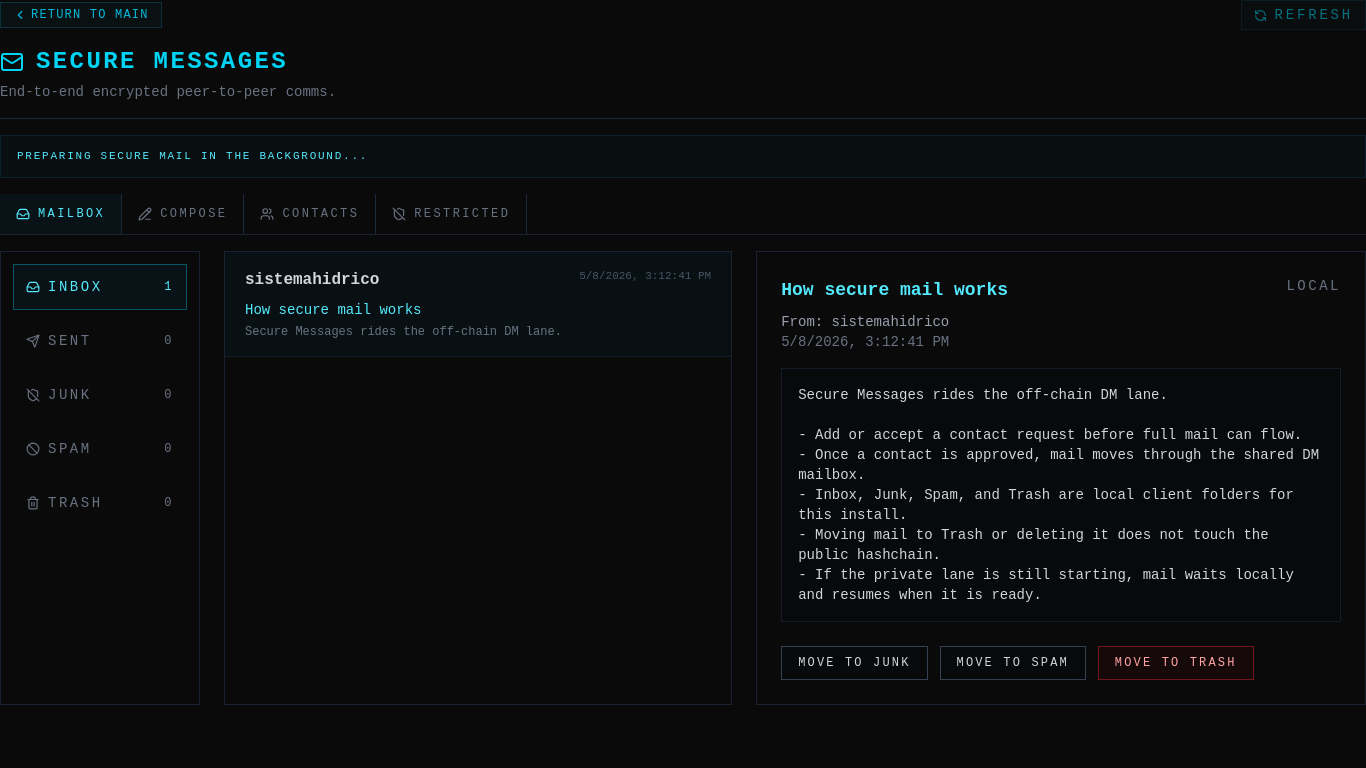
Test: MessagesView first-contact trust UX › blocks ambient legacy lookup for verified contacts that still lack an invite handle
Click the button "COMPOSE" at (183, 214), box [122,194,244,234]
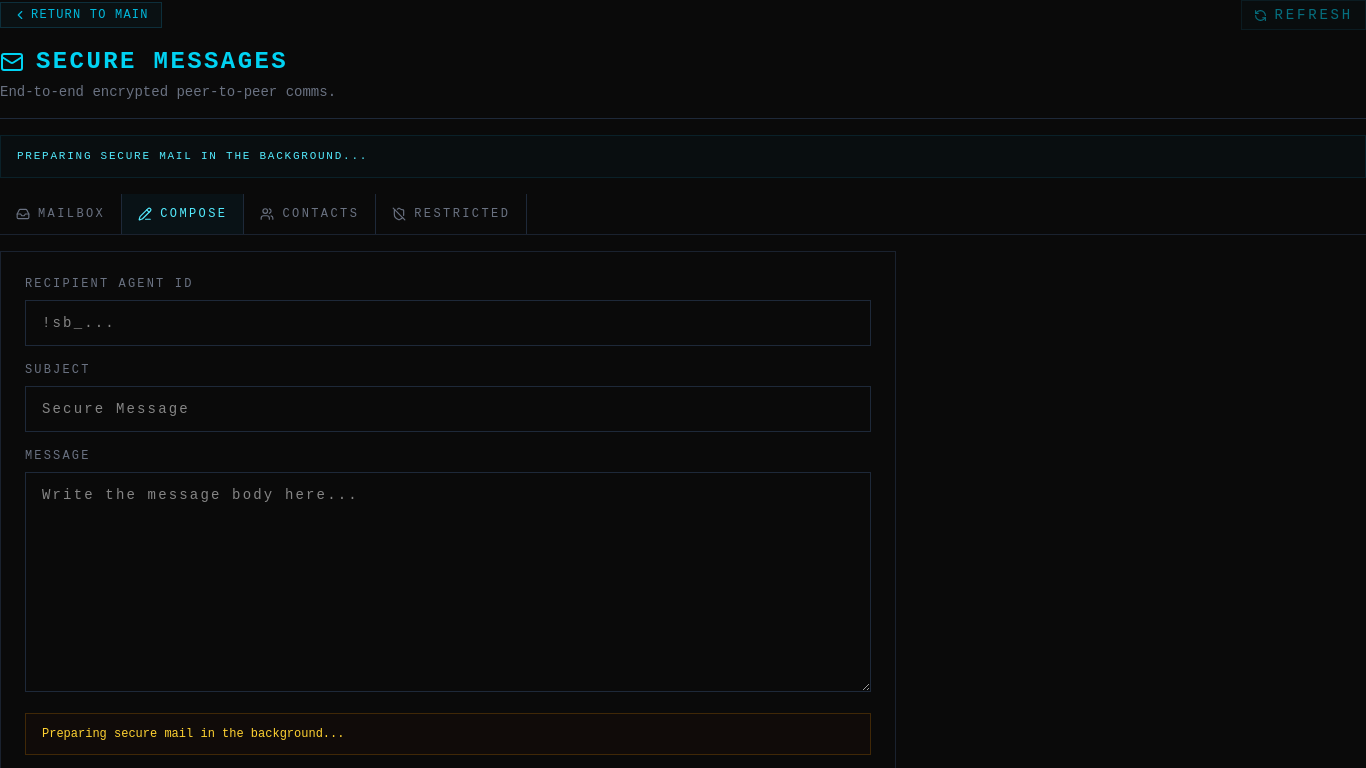
Type "!sb_legacy" into the field labelled "Recipient agent ID" at (448, 322), box [25,300,871,346]
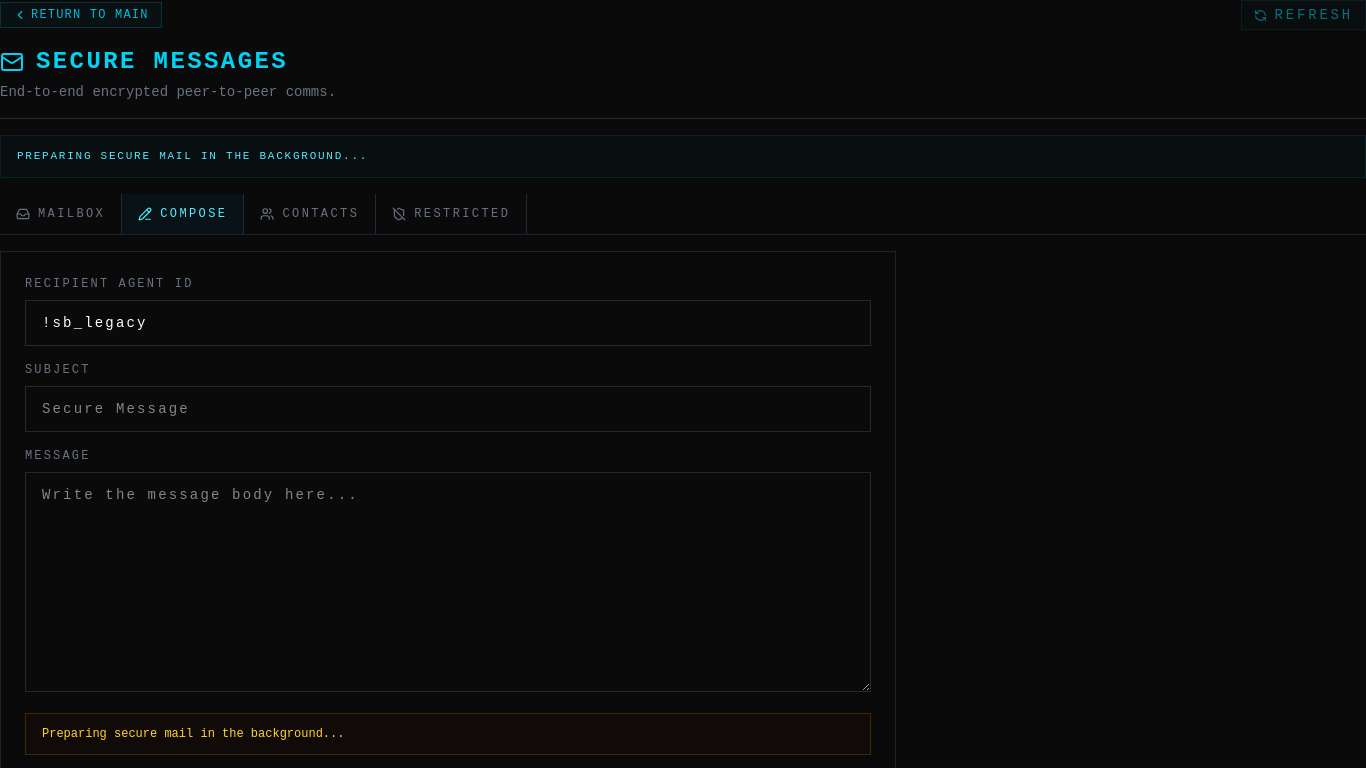
Type "hello from a legacy lookup contact" into the text box labelled "Message" at (448, 582), box [25,472,871,692]
(page scrolled)
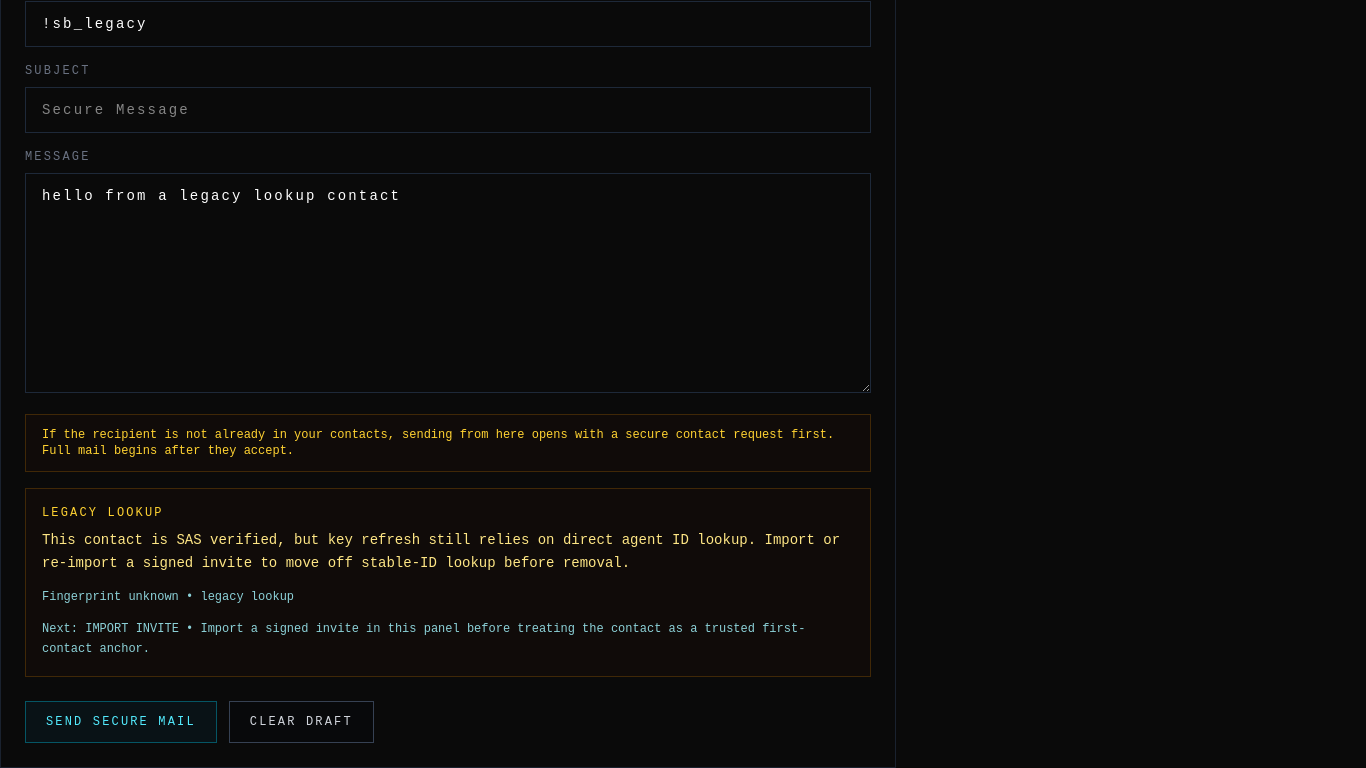
Click the button "Send Secure Mail" at (121, 722), box [25,701,217,743]
(page scrolled)
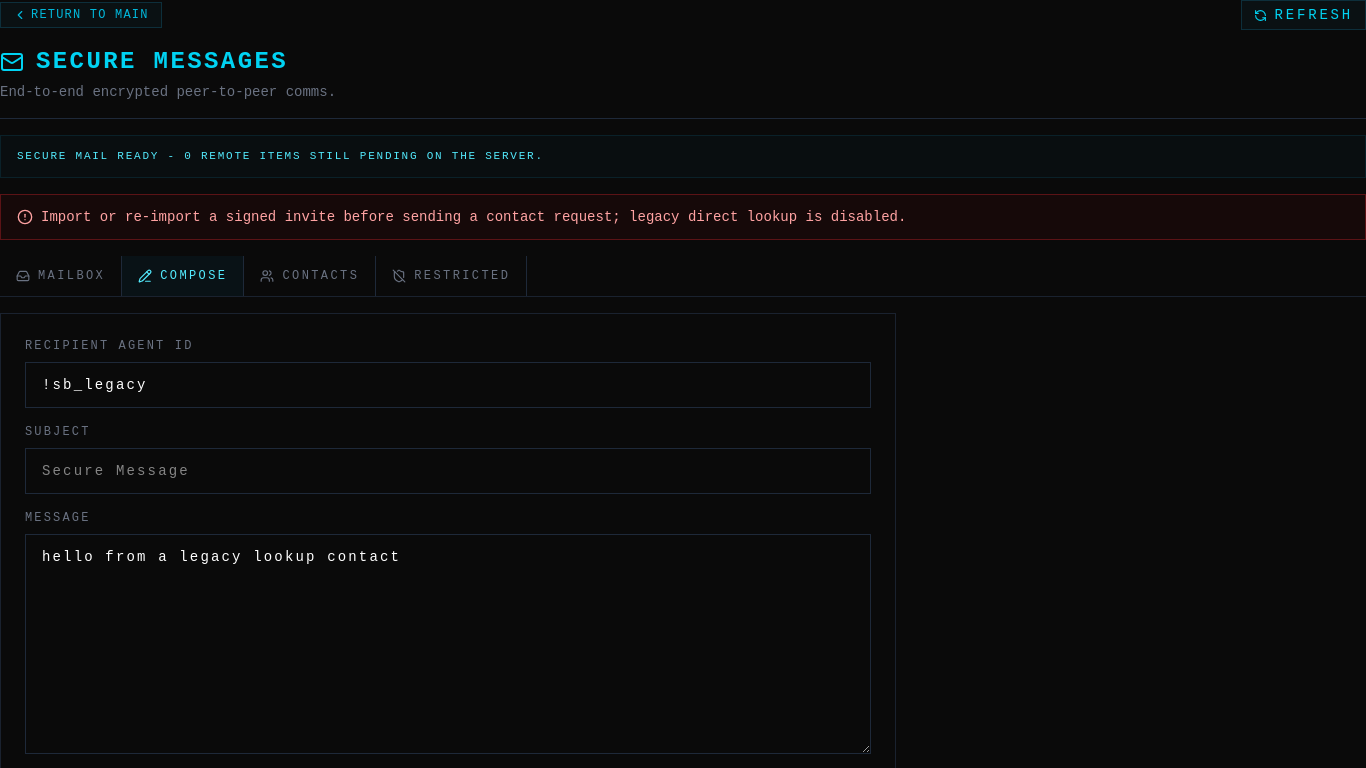
Now the text "Import or re-import a signed invite before sending a contact request; legacy direct lookup is disabled." is shown, box [41,208,906,224]
